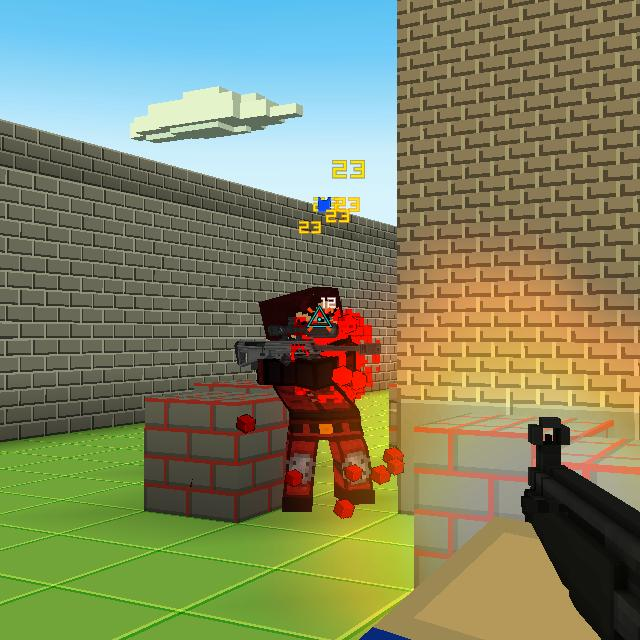enemy: (241, 283, 388, 515)
